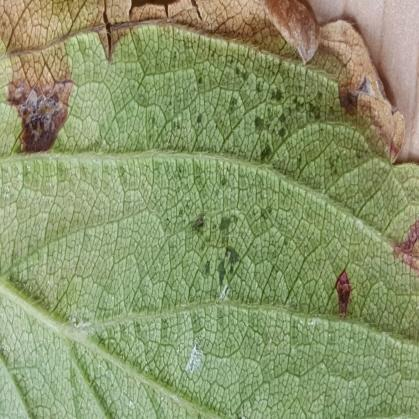Angular Leafspot: (0, 0, 418, 325)
